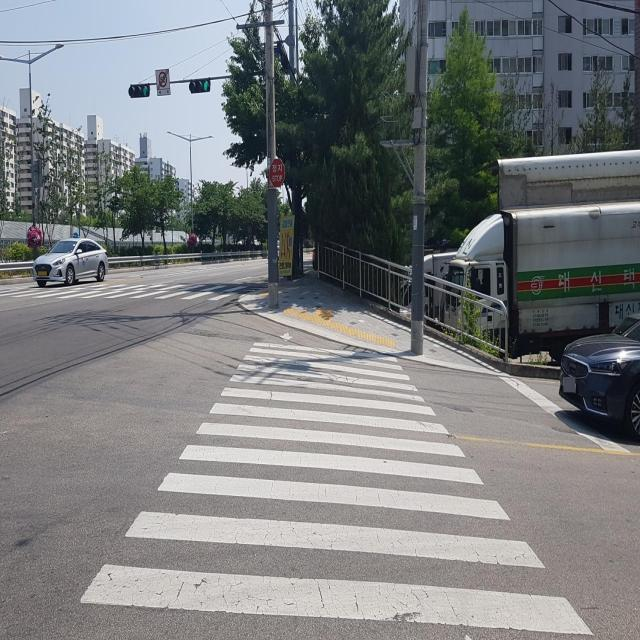횡단보도: (76, 328, 596, 640), (0, 280, 271, 306)
